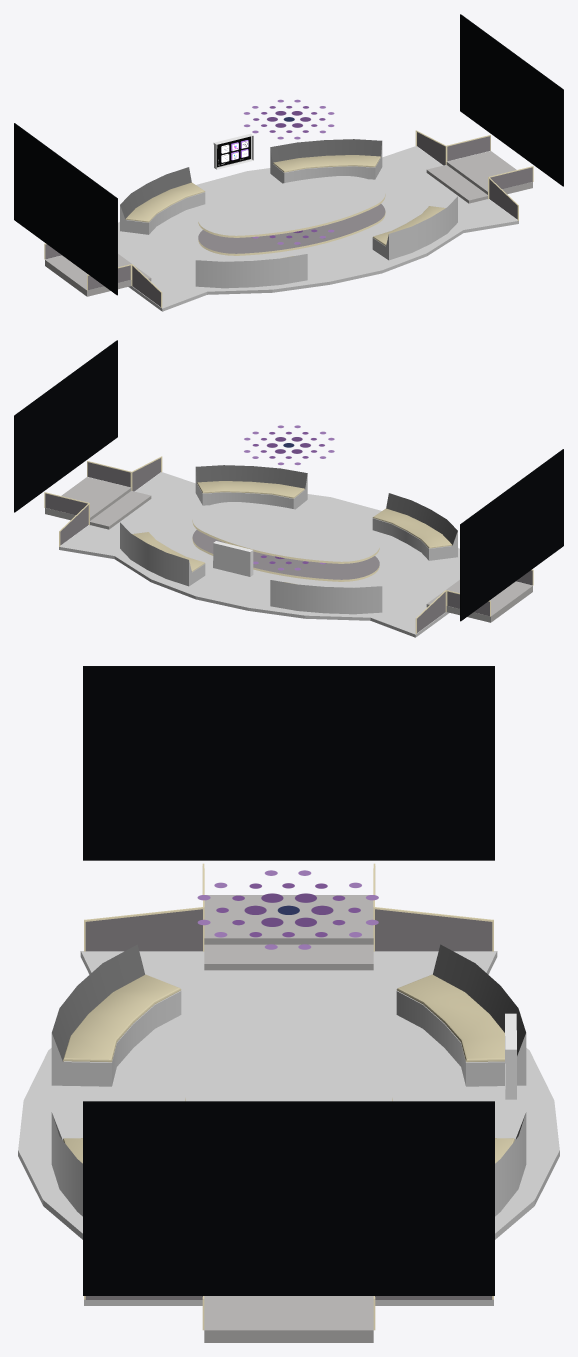
File: corporativeMode6.glb
3 renders of one model, top to bottom at view 1: azimuth 30°, elevation 25°; view 2: azimuth 150°, elevation 25°; view 3: azimuth 270°, elevation 25°, orthographic. The views are drawn at different scales.
Visible parts, largest first — view 1: p05_floor, p05_sofa, p05_tv_001, p05_tv_002.002, p05_tablev2_001, p05_stairs_001.002, p05_glass_floor, p05_railing_001, p05_railing_002, p04_corpbuttons_01, p05_logo_MRCgroup.002, p05_railing_003 (+1 smaller); view 2: p05_floor, p05_sofa, p05_tv_001, p05_tv_002.002, p05_tablev2_001, p05_stairs_001.002, p05_glass_floor, p05_railing_001, p05_railing_002, p04_corpbuttons_02, p05_logo_MRCgroup.002, p05_railing_003; view 3: p05_tv_002.002, p05_tv_001, p05_floor, p05_sofa, p05_stairs_001.002, p05_tablev2_001, p05_railing_002, p05_logo_MRCgroup.002, p04_corpbuttons_02, p05_railing_003.
Part boxes in pixels (x1,y1,x2,y2): p05_floor: (118, 146, 518, 311); p05_sofa: (120, 139, 457, 288); p05_tv_001: (460, 14, 563, 186); p05_tv_002.002: (14, 123, 117, 295); p05_tablev2_001: (198, 176, 385, 237); p05_stairs_001.002: (45, 151, 532, 296); p05_glass_floor: (198, 204, 385, 255); p05_railing_001: (45, 136, 532, 290); p05_railing_002: (132, 132, 517, 306); p04_corpbuttons_01: (217, 136, 250, 167); p05_logo_MRCgroup.002: (243, 99, 334, 139); p05_railing_003: (131, 130, 518, 307); p05_floor: (59, 472, 459, 637); p05_sofa: (120, 465, 457, 614); p05_tv_001: (14, 340, 117, 512); p05_tv_002.002: (460, 449, 563, 621); p05_tablev2_001: (192, 502, 379, 563); p05_stairs_001.002: (45, 477, 532, 622); p05_glass_floor: (192, 530, 379, 581); p05_railing_001: (45, 462, 532, 616); p05_railing_002: (60, 458, 445, 632); p04_corpbuttons_02: (213, 541, 253, 576); p05_logo_MRCgroup.002: (244, 425, 334, 465); p05_railing_003: (59, 456, 446, 633); p05_tv_002.002: (83, 666, 494, 860); p05_tv_001: (83, 1101, 494, 1295); p05_floor: (18, 951, 559, 1305); p05_sofa: (51, 944, 526, 1216); p05_stairs_001.002: (204, 895, 373, 1342); p05_tablev2_001: (185, 1001, 392, 1101); p05_railing_002: (85, 909, 492, 1299); p05_logo_MRCgroup.002: (197, 870, 378, 949); p04_corpbuttons_02: (505, 1013, 516, 1099); p05_railing_003: (84, 907, 493, 1299).
Size of what is drawn, in the model's own units: 28.16 by 7.44 by 14.78.
Materials: 6 (6 with a texture image).
